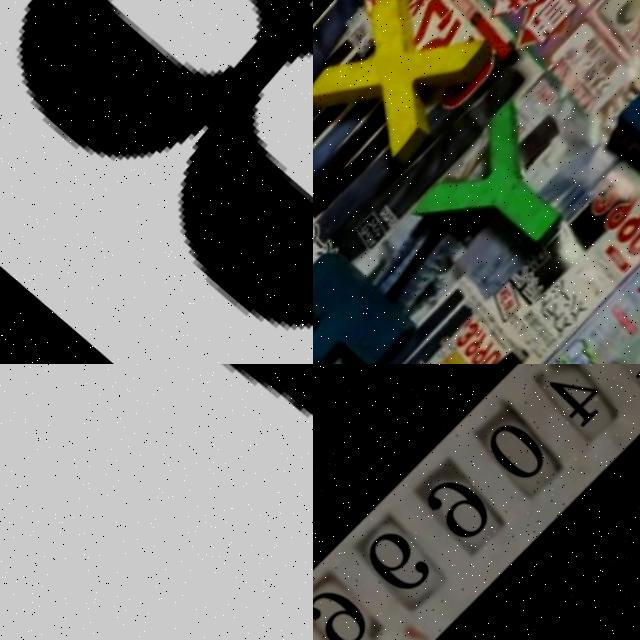0: (460, 385, 580, 499)
4: (518, 364, 636, 440)
6: (398, 438, 528, 562), (313, 549, 408, 640)
8: (0, 0, 313, 364)
9: (340, 496, 466, 616)
K: (313, 239, 426, 364)
L: (0, 364, 313, 640)
X: (313, 0, 504, 182)
Y: (411, 91, 606, 288)
